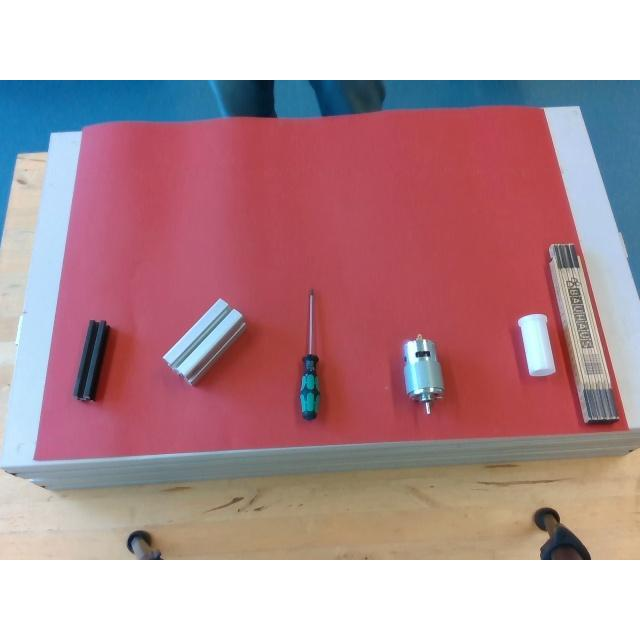F20_20_B: (70, 317, 110, 403)
Motor2: (403, 336, 443, 412)
S40_40_G: (163, 300, 245, 384)
Screwdriver: (296, 288, 324, 424)
Spacer: (518, 316, 554, 376)
